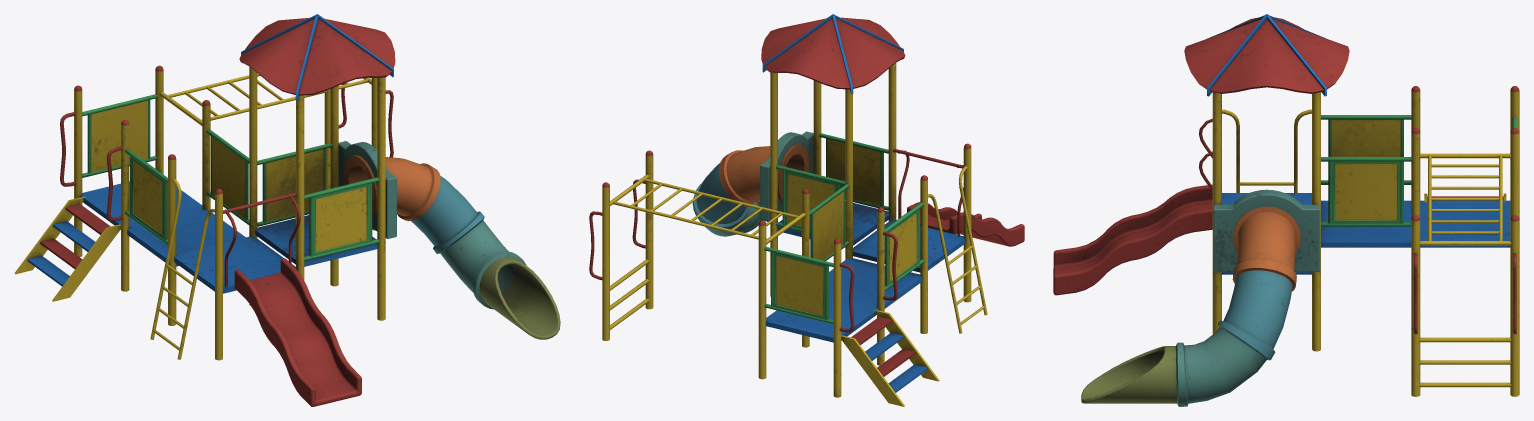
File: Slide 2.fbx
The picture shows the model from 3 angles, left to right: view 1: azimuth 30°, elevation 25°; view 2: azimuth 150°, elevation 25°; view 3: azimuth 270°, elevation 25°; orthographic projection. The views are drawn at different scales.
Parts seen in each view (by area): view 1: Slide_2; view 2: Slide_2; view 3: Slide_2.
Part boxes in pixels (x1=…): Slide_2: x1=14, y1=14, x2=560, y2=406; Slide_2: x1=589, y1=14, x2=1024, y2=406; Slide_2: x1=1053, y1=14, x2=1519, y2=406.
Bounding box in the file's own units: 530 × 422 × 564.
Materials: 1 (1 with a texture image).
